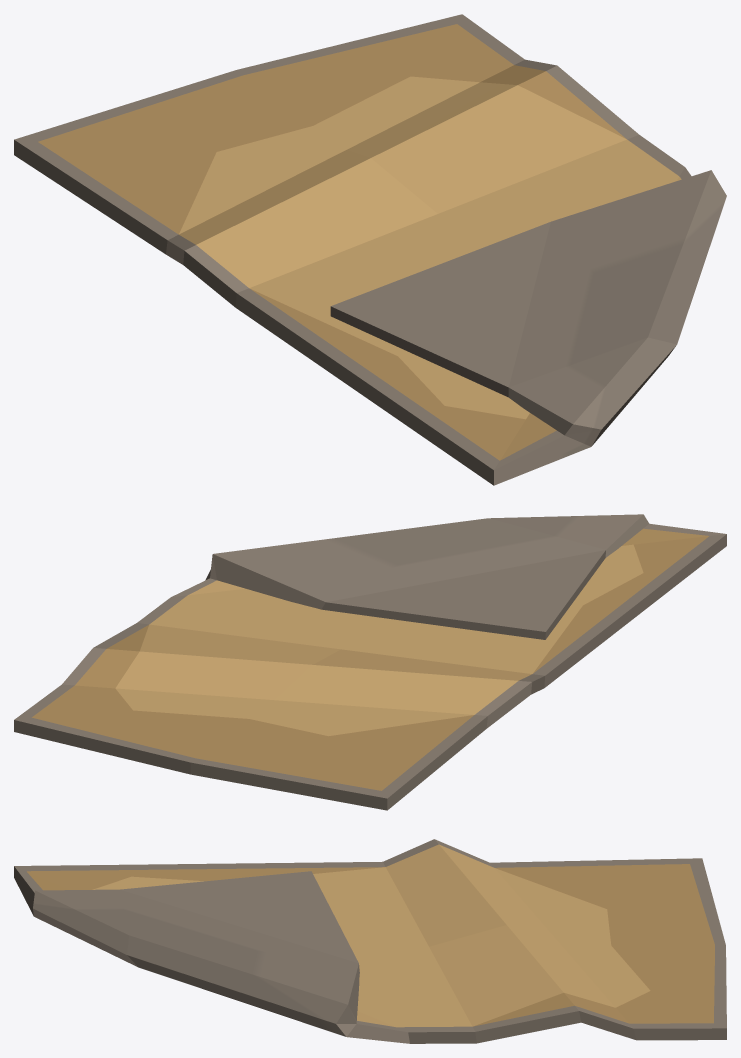
File: SM_Prop_Rug_03.fbx
3 views of the same model, one above another, from view 1: azimuth 30°, elevation 25°; view 2: azimuth 150°, elevation 25°; view 3: azimuth 270°, elevation 25° (orthographic). The views are drawn at different scales.
Parts seen in each view (by area): view 1: SM_Prop_Rug_03; view 2: SM_Prop_Rug_03; view 3: SM_Prop_Rug_03.
Boxes of the visible parts, x1,y1,x2,y2 form: SM_Prop_Rug_03: (14,14,726,485); SM_Prop_Rug_03: (14,514,726,810); SM_Prop_Rug_03: (14,839,726,1043).
Bounding box in the file's own units: 108 × 9.72 × 185.
